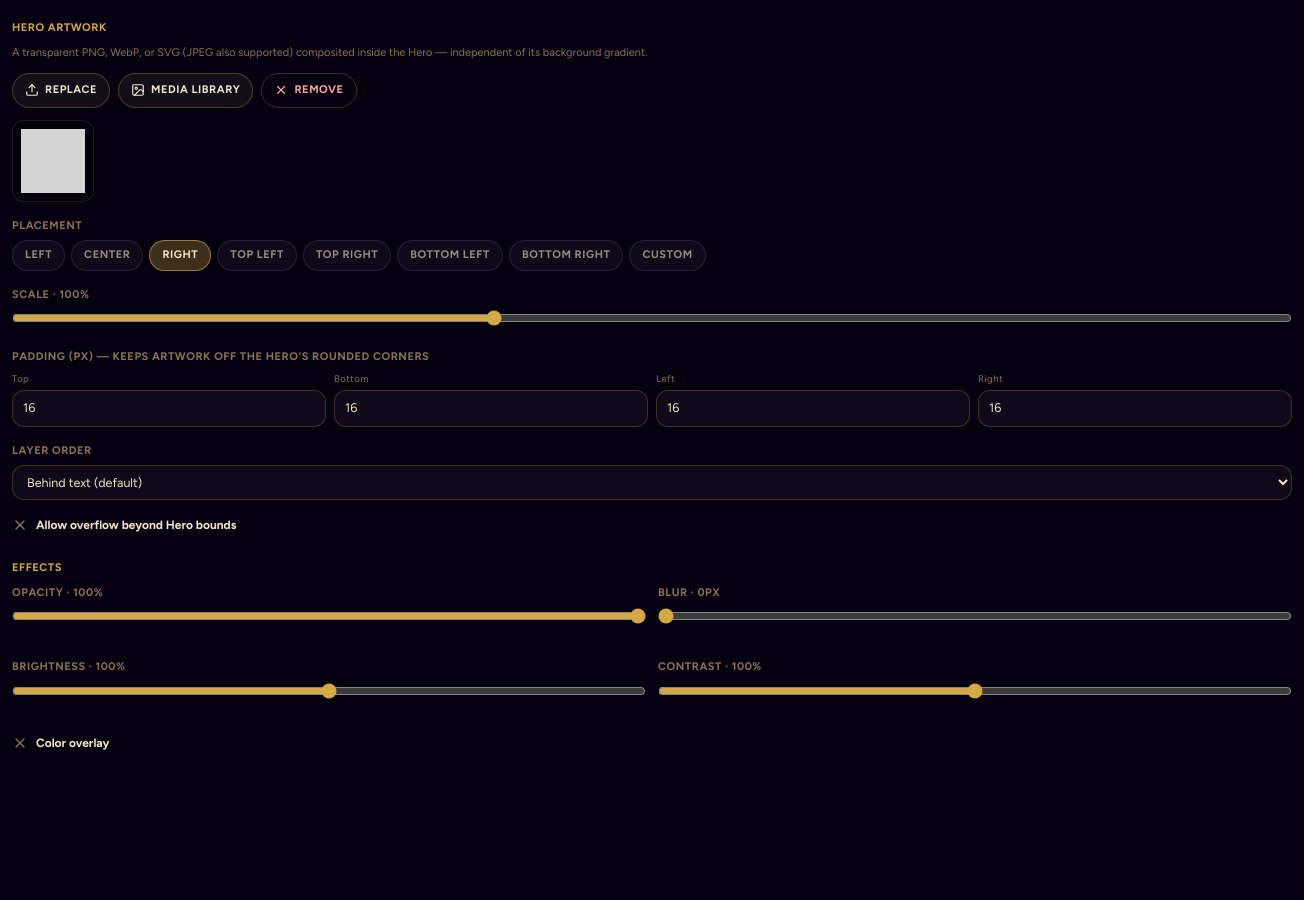
Test case: Effects section (Promotion Experience Studio) › opacity slider updates the displayed percentage
The image size is (1304, 900).
Set the slider with test id "hero-artwork-opacity" to "70" at [453, 616], box [12,608,646,624]
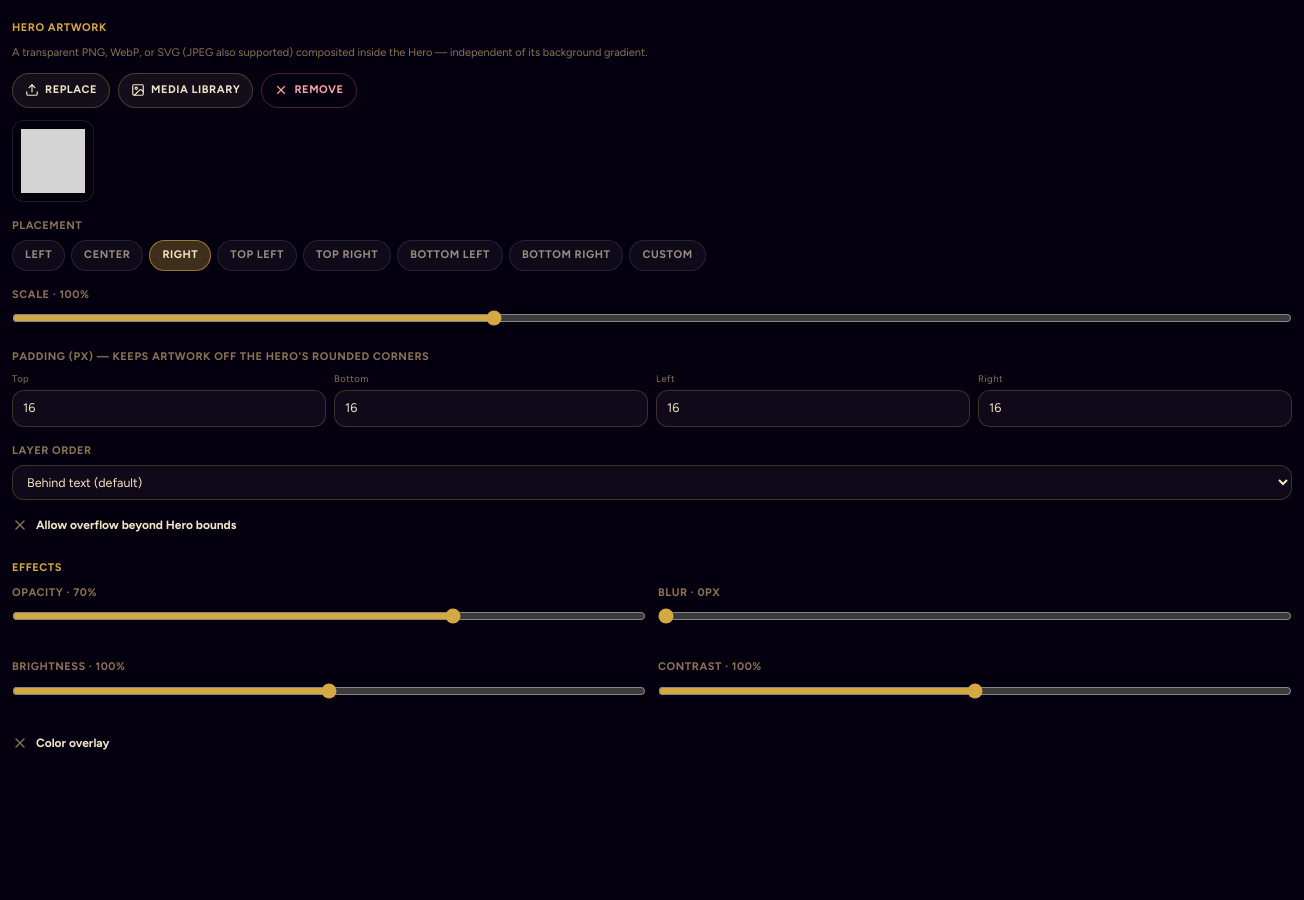
Expected: the text "Opacity · 70%" is shown, [12,586,97,598]
